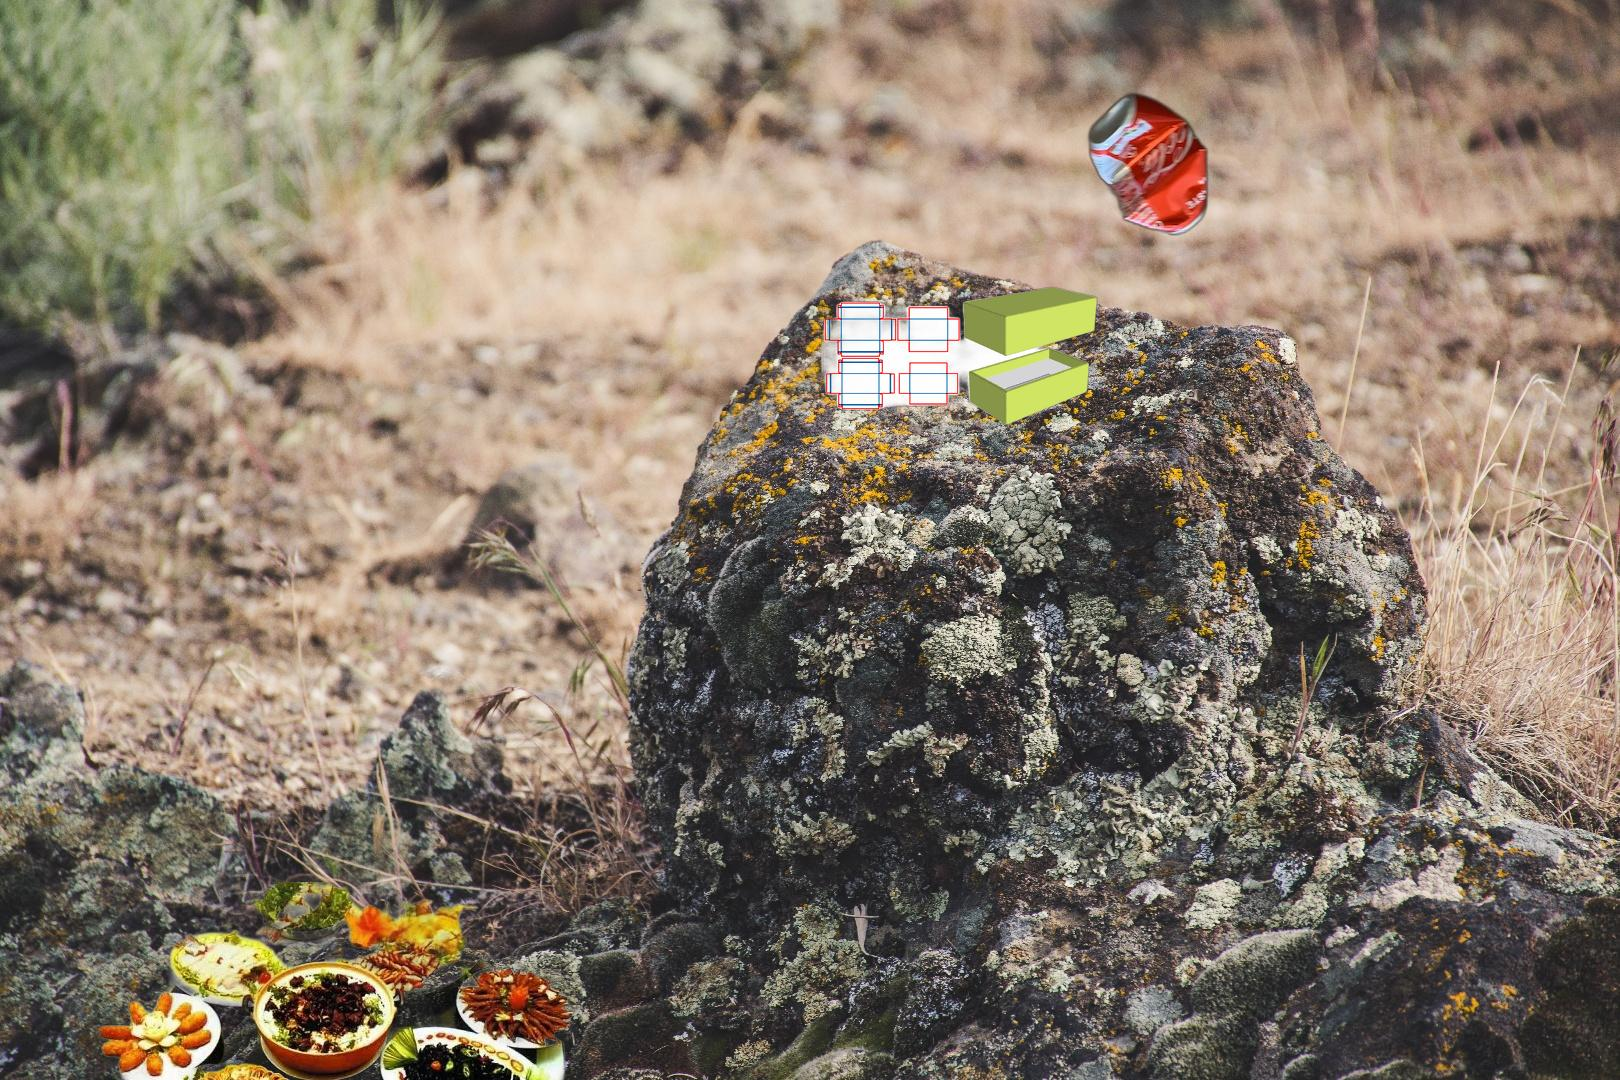biological: (82, 882, 580, 1080)
metal-cans: (1084, 87, 1213, 240)
trashbox-cardboard: (821, 284, 1100, 428)
